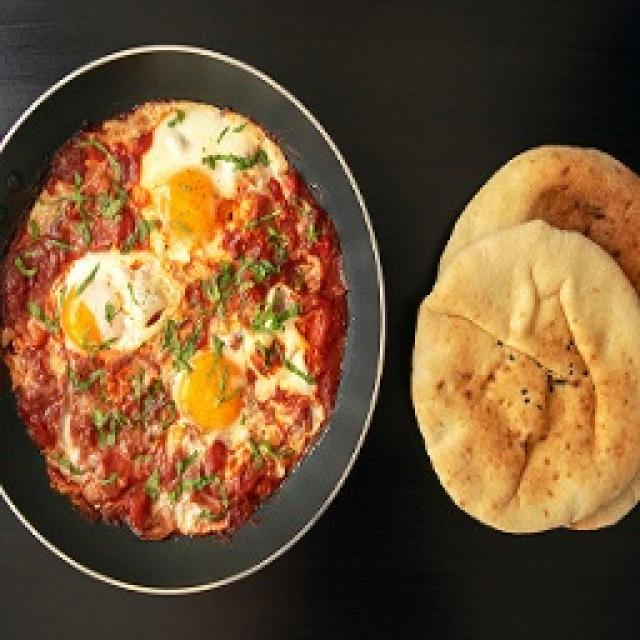Chakchouka: (4, 101, 346, 539)
